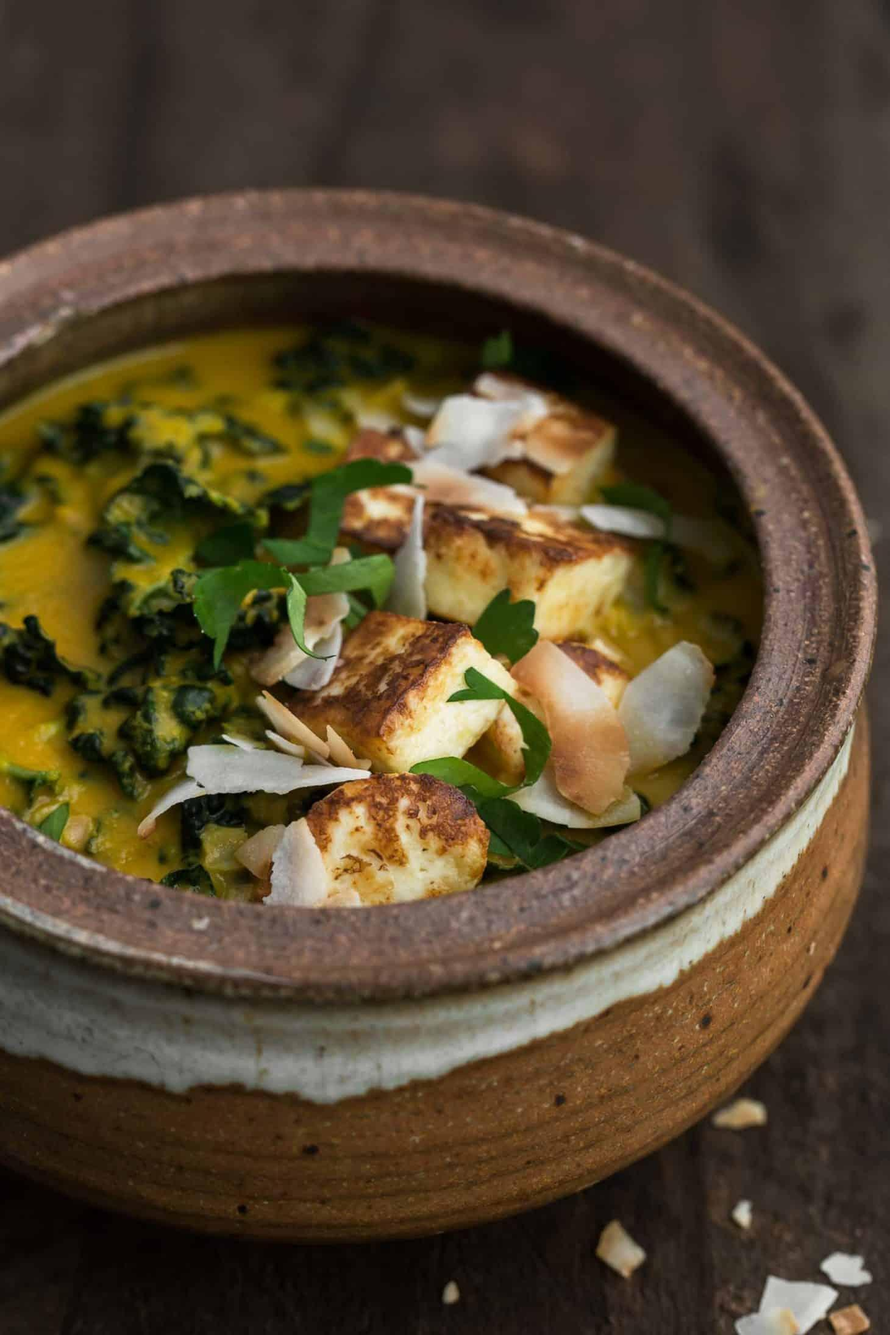paneer: (39, 398, 596, 846)
